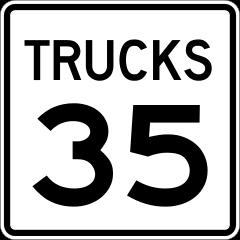Speed Limit -35-: (25, 94, 220, 219)
